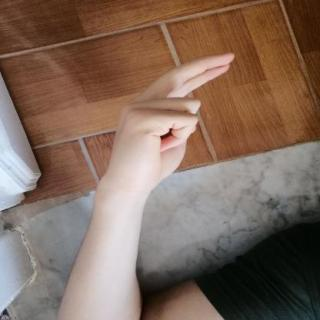ZAY: (100, 44, 250, 196)
